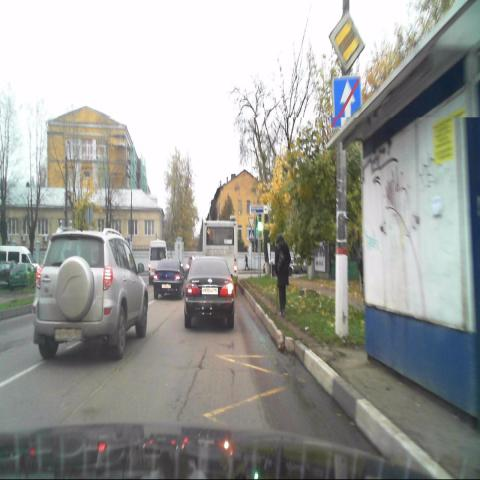2_2: (330, 13, 364, 75)
5_6: (333, 78, 362, 130)
